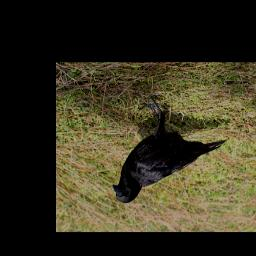Crow: (114, 93, 230, 204)
